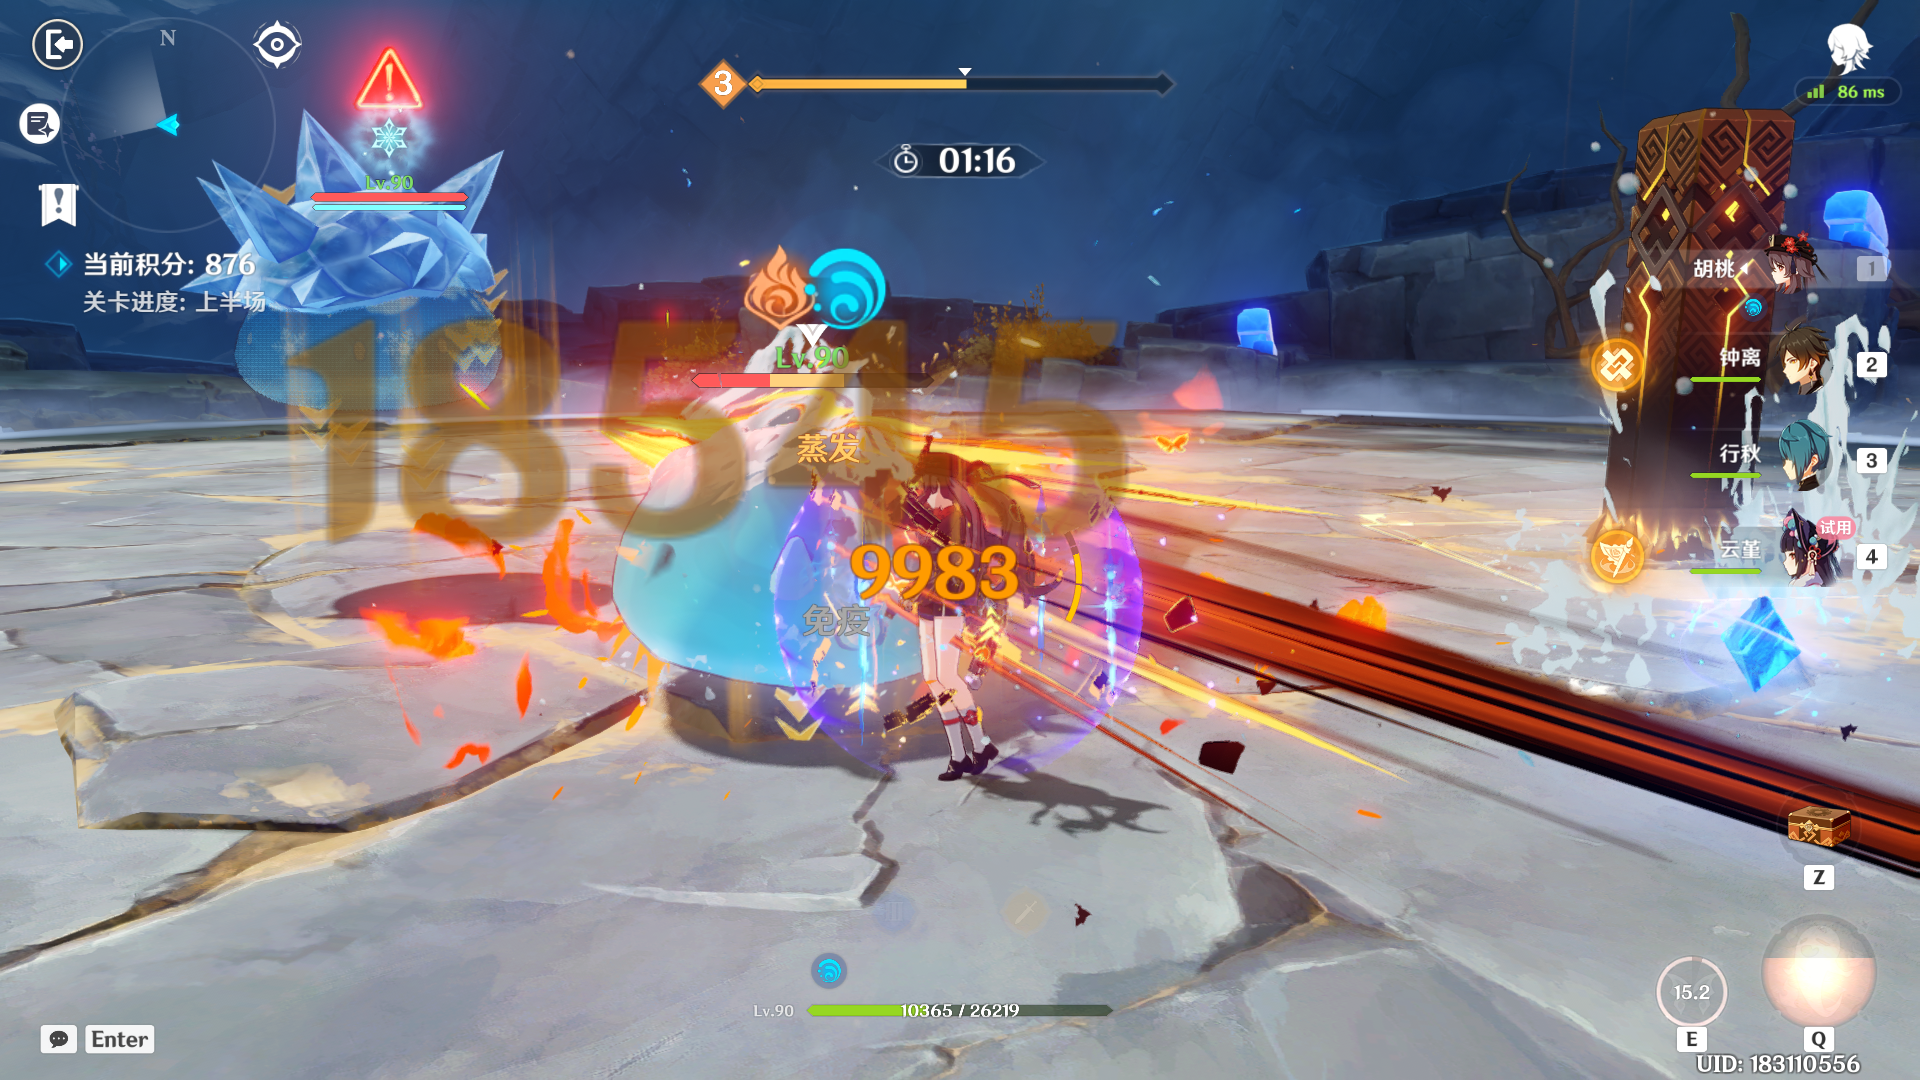character: (837, 417, 1091, 804)
slime: (179, 100, 583, 525), (584, 400, 993, 709)
